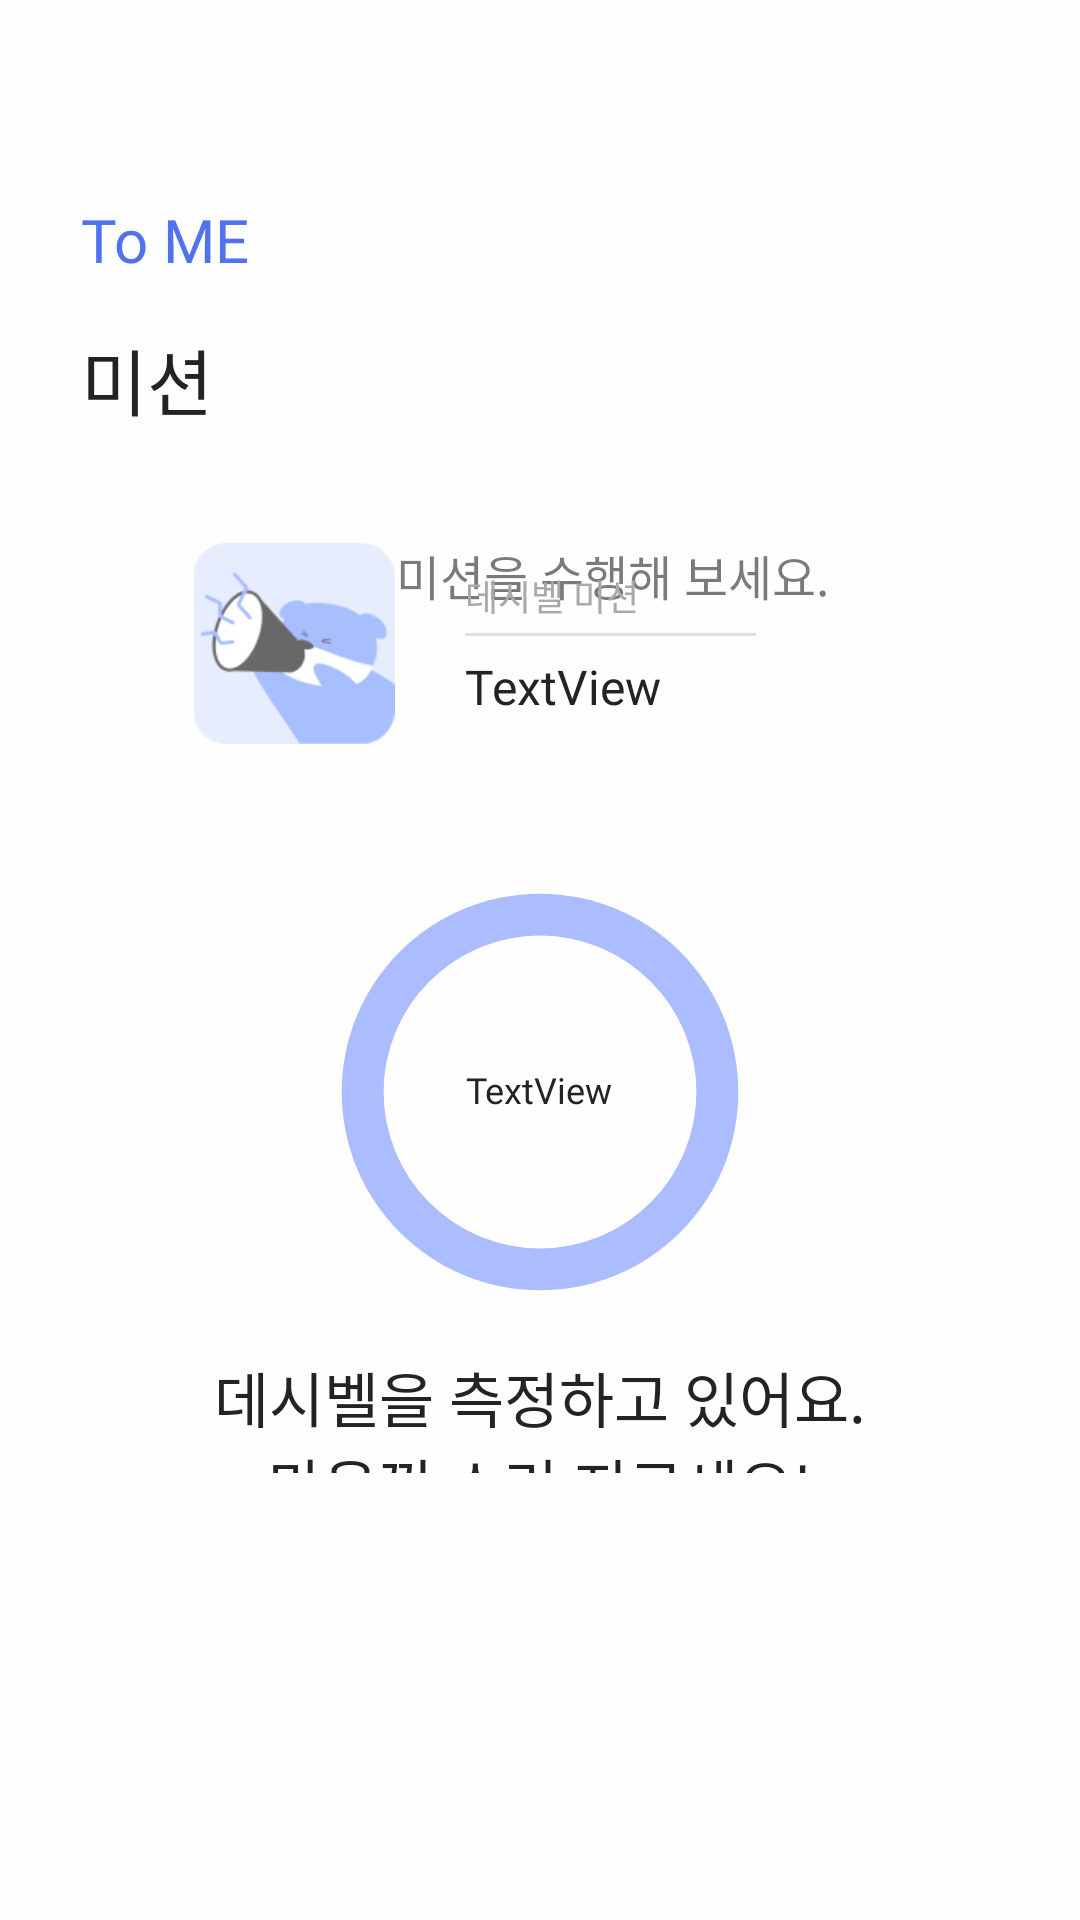

Icons on this 1080×1920 Android screen, each with its box as [x1, y1, x2, y2]:
mission decibel: [194, 543, 420, 744]
